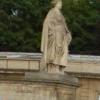Statue: (31, 4, 80, 92)
